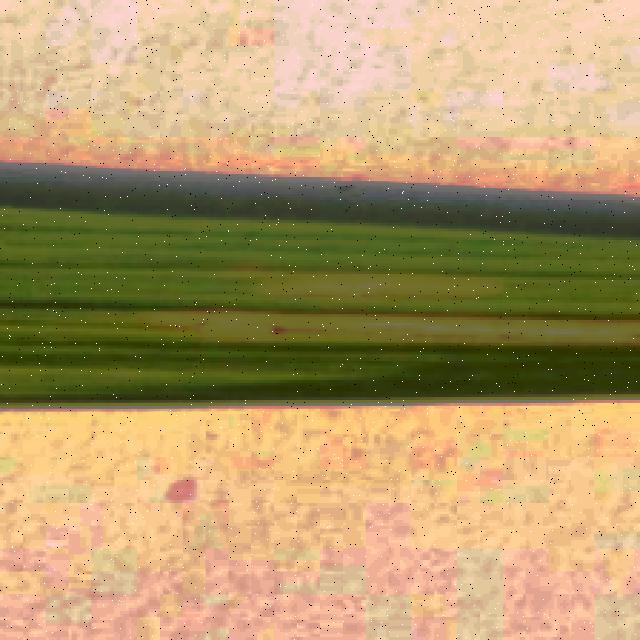unhealth: (0, 166, 640, 395)
